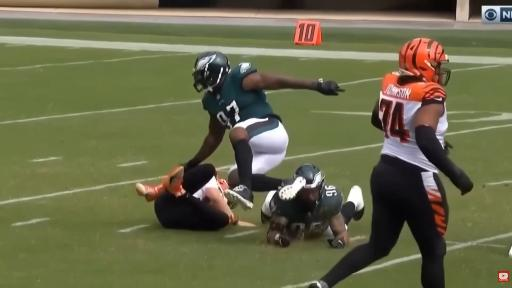Helmet: (399, 38, 450, 85), (193, 52, 230, 91), (294, 164, 324, 188), (218, 179, 228, 193)
Jersey: (379, 72, 447, 172), (202, 63, 273, 129), (270, 185, 343, 236), (192, 176, 227, 199)
Player: (310, 39, 473, 287), (185, 52, 343, 209), (262, 164, 364, 247), (136, 164, 238, 230)
